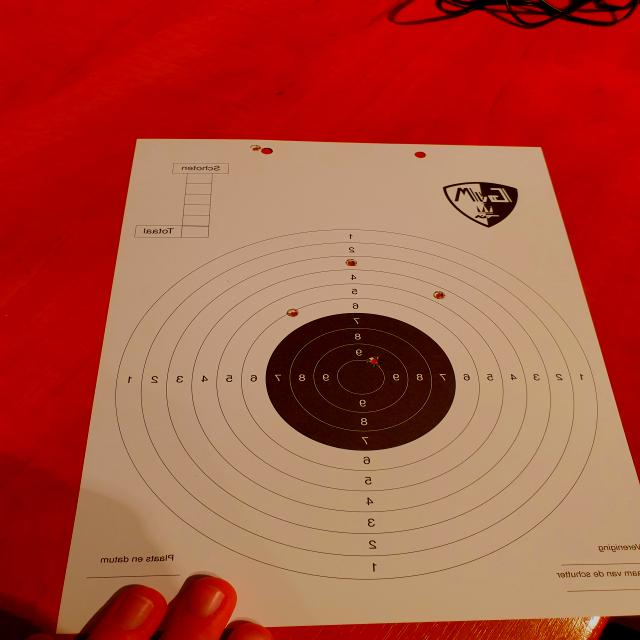0: (248, 144, 263, 152)
10: (367, 356, 384, 367)
3: (344, 258, 358, 267)
4: (432, 290, 446, 300)
6: (285, 307, 300, 318)
Target: (113, 227, 601, 583)
black_contour: (265, 313, 456, 452)
